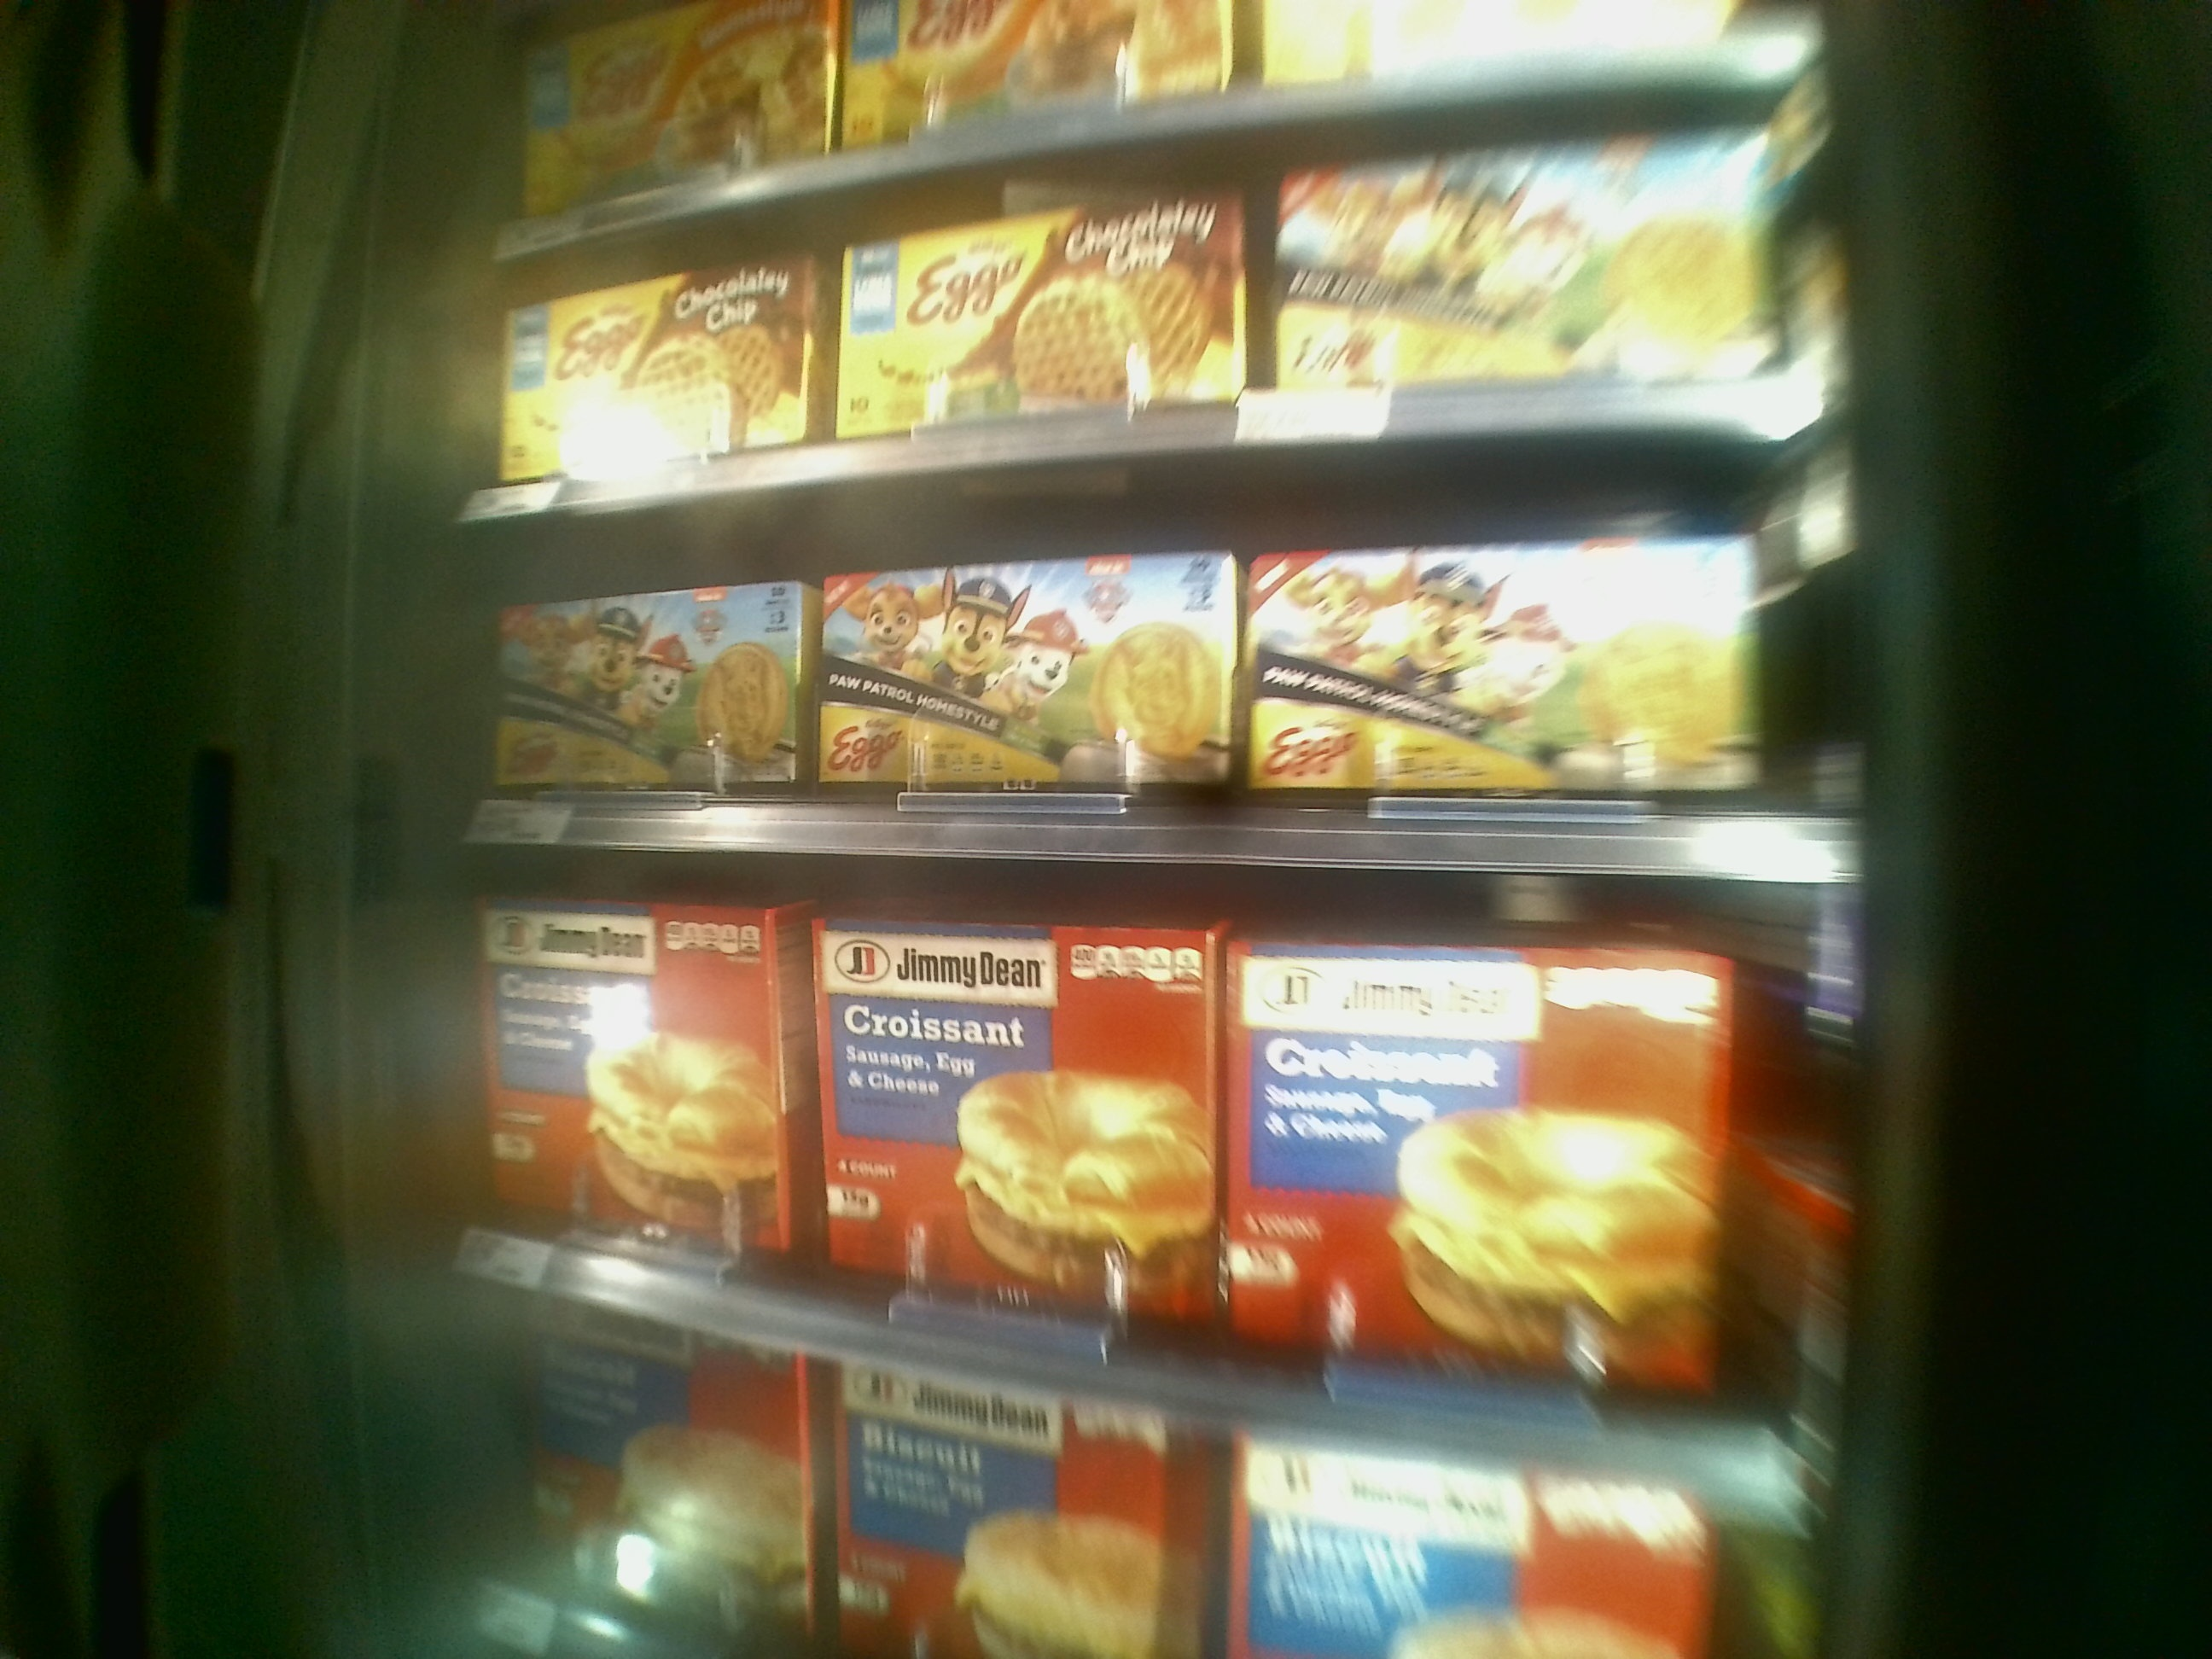shelf: (460, 857, 1839, 1493), (460, 446, 1857, 871)
